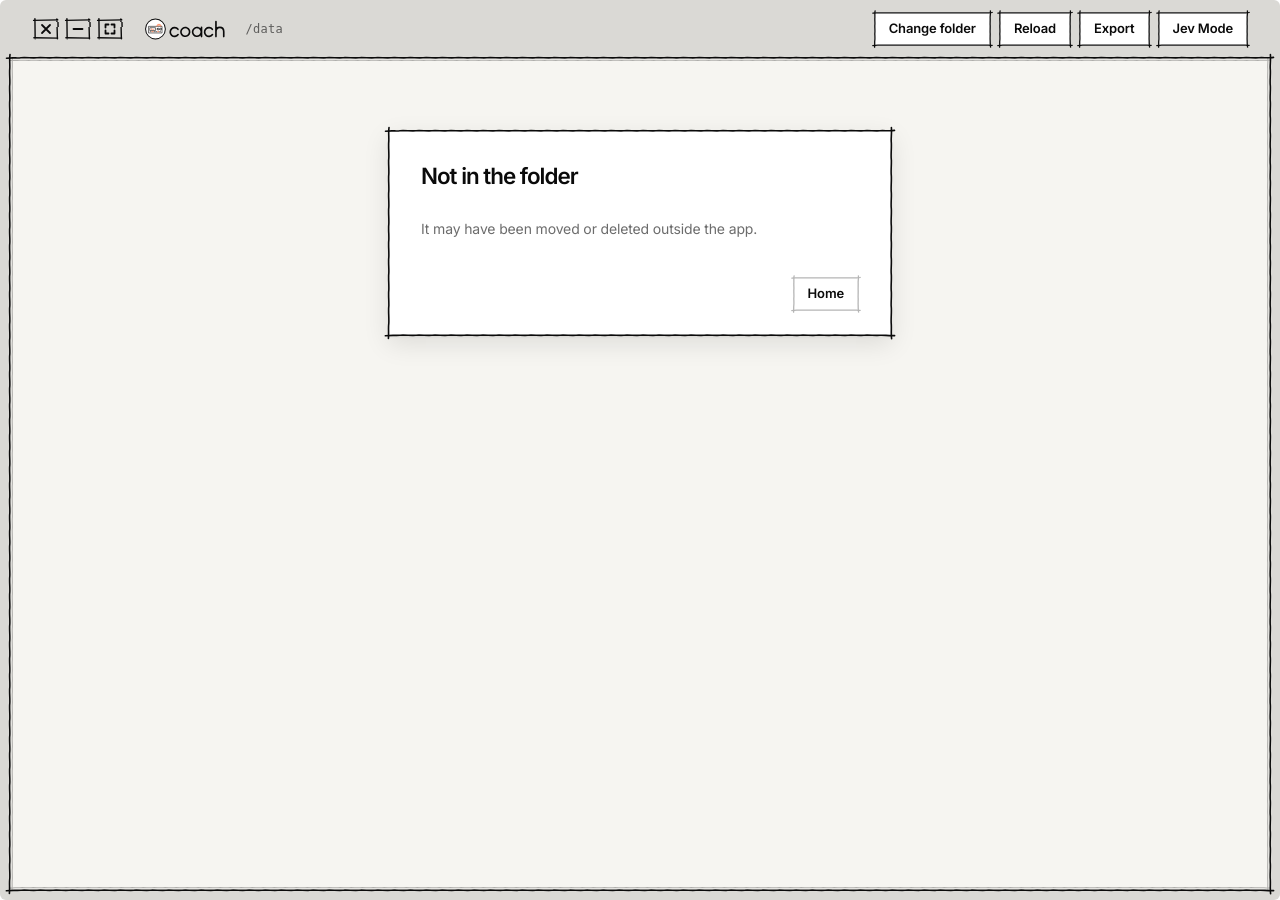
Test: ReplyView › a take named by a route for a badge that is gone shows Missing with the way home
The image size is (1280, 900).
Expected: the heading "Not in the folder" is shown, [421,162,578,188]
Step 1. Click the button "Home" → (826, 294), box [792,277,859,311]
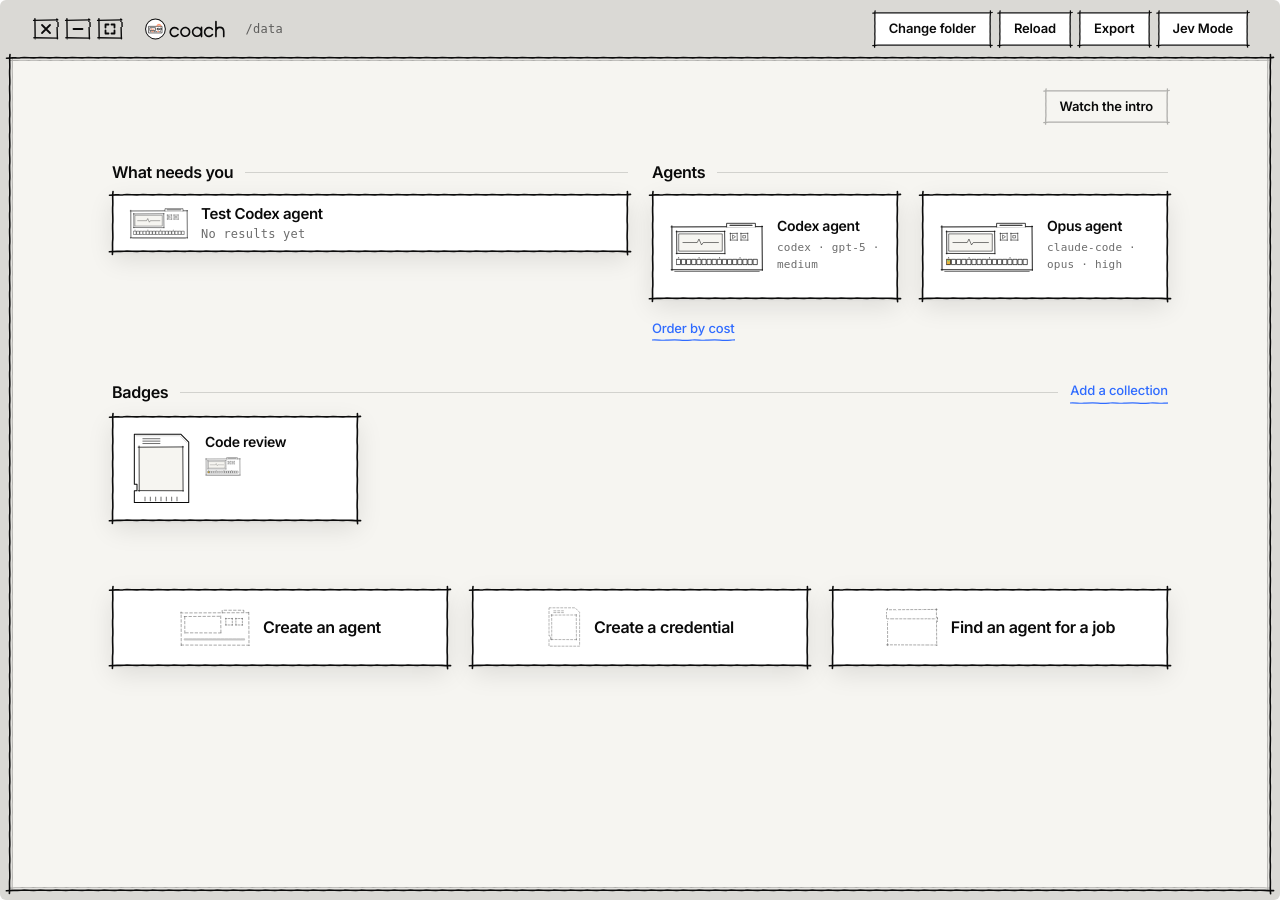
Now the element "Badges" is shown, box [112,381,1168,532]
